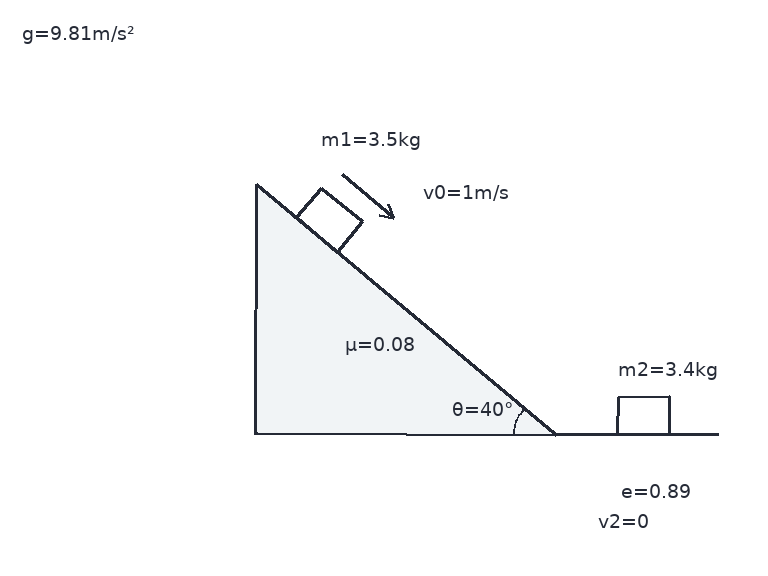block: (294, 185, 364, 254), (615, 395, 671, 436)
ramp: (254, 182, 556, 436)
